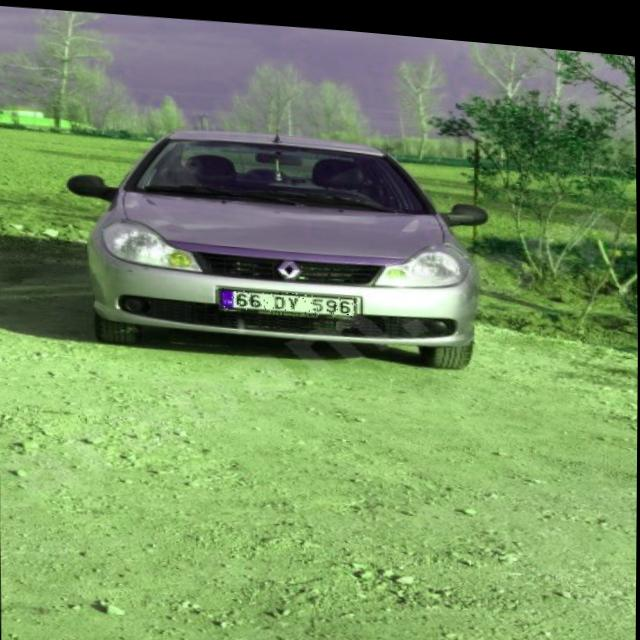license_plate: (218, 281, 357, 313)
